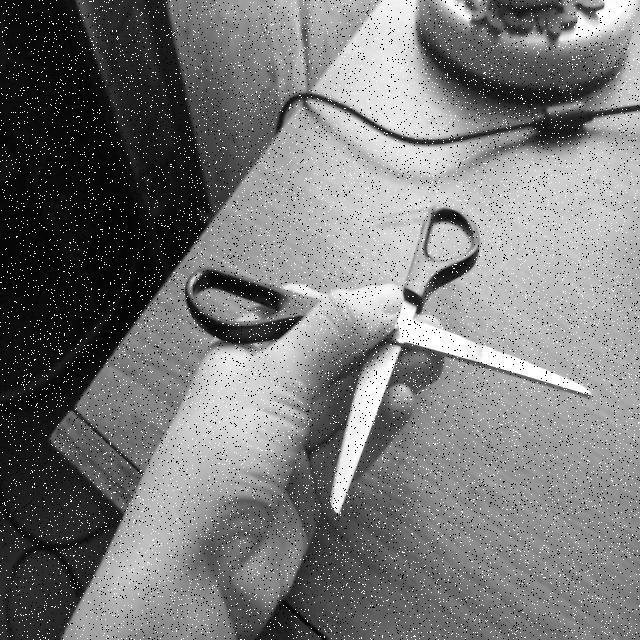scissors: (182, 197, 594, 523)
